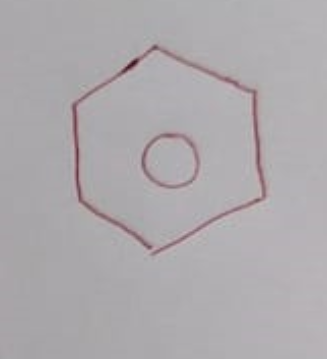shape_mask: (65, 39, 277, 264)
